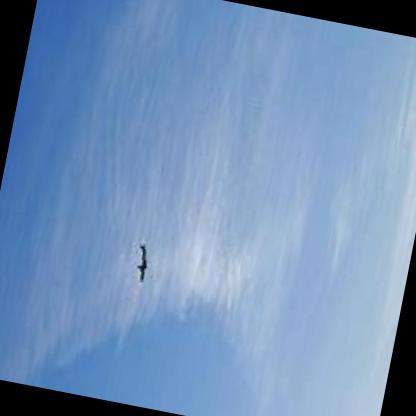plane: (125, 239, 160, 291)
